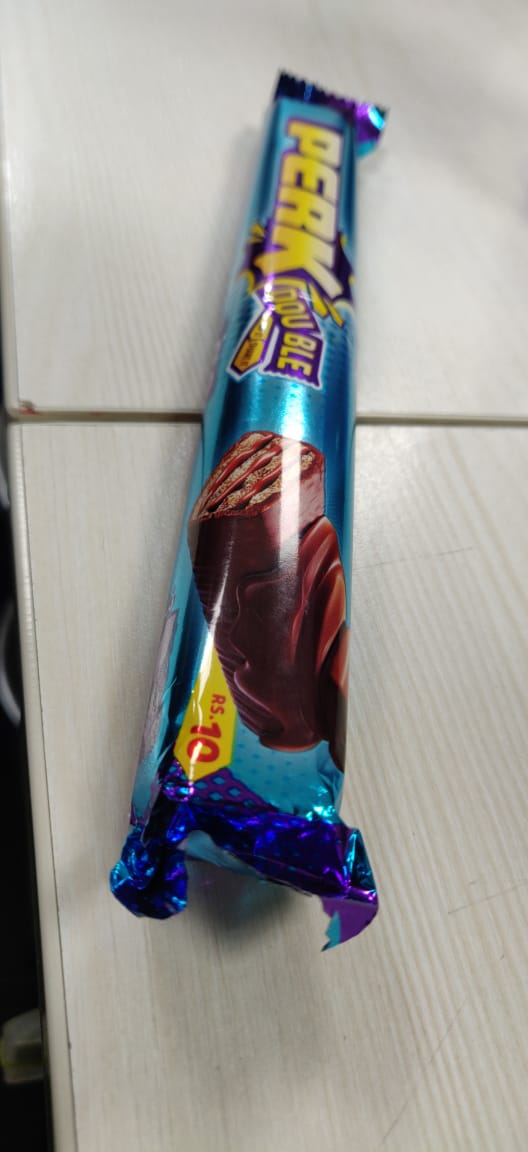perk: (99, 39, 410, 988)
